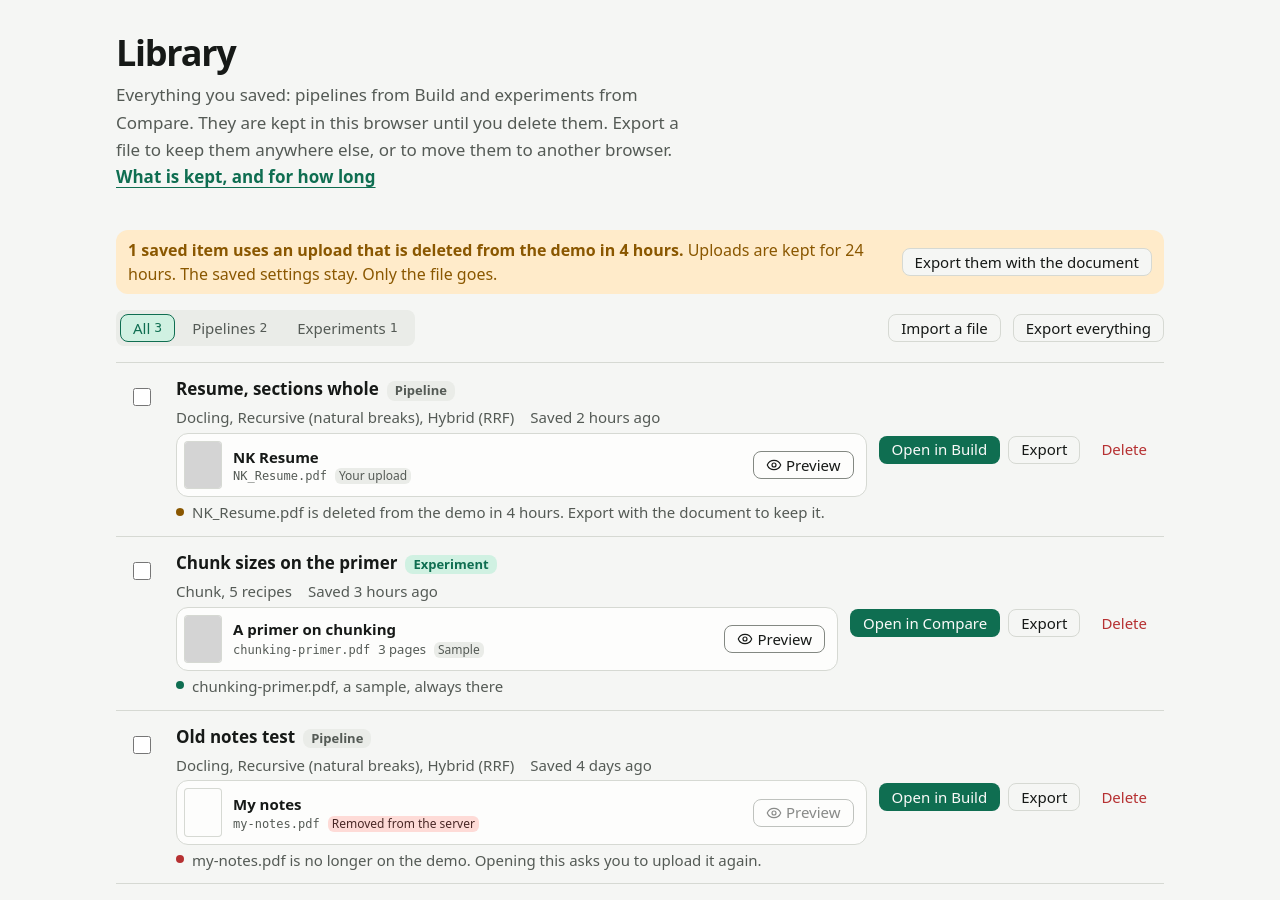
Test: Library › filters to one kind
Expected: the text "deleted from the demo in" is shown, [192, 502, 825, 522]
Click the button "Experiments 1": (347, 328) [284, 314, 410, 342]
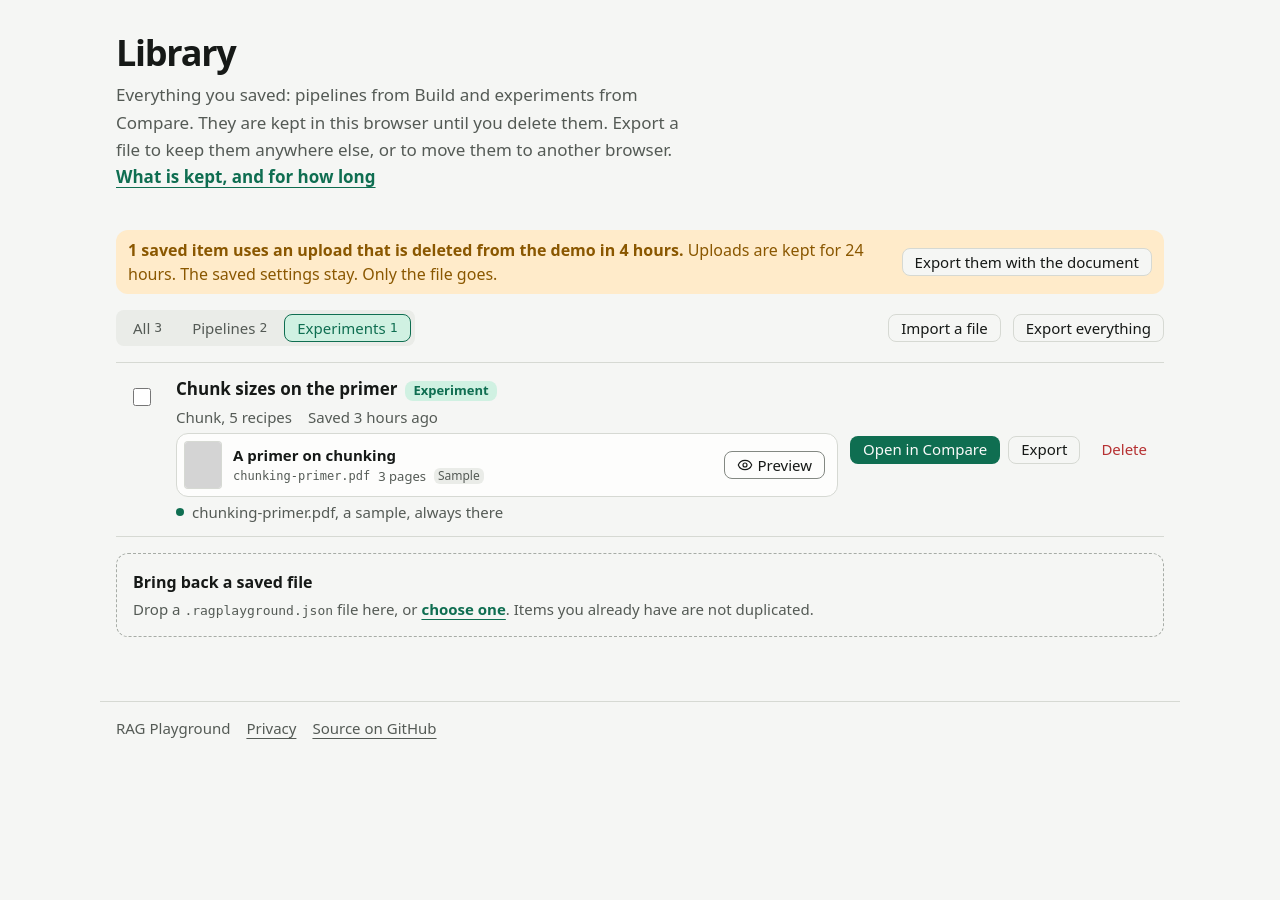
Expected: the headings read "Chunk sizes on the primer", in this order, [176, 375, 397, 402]
